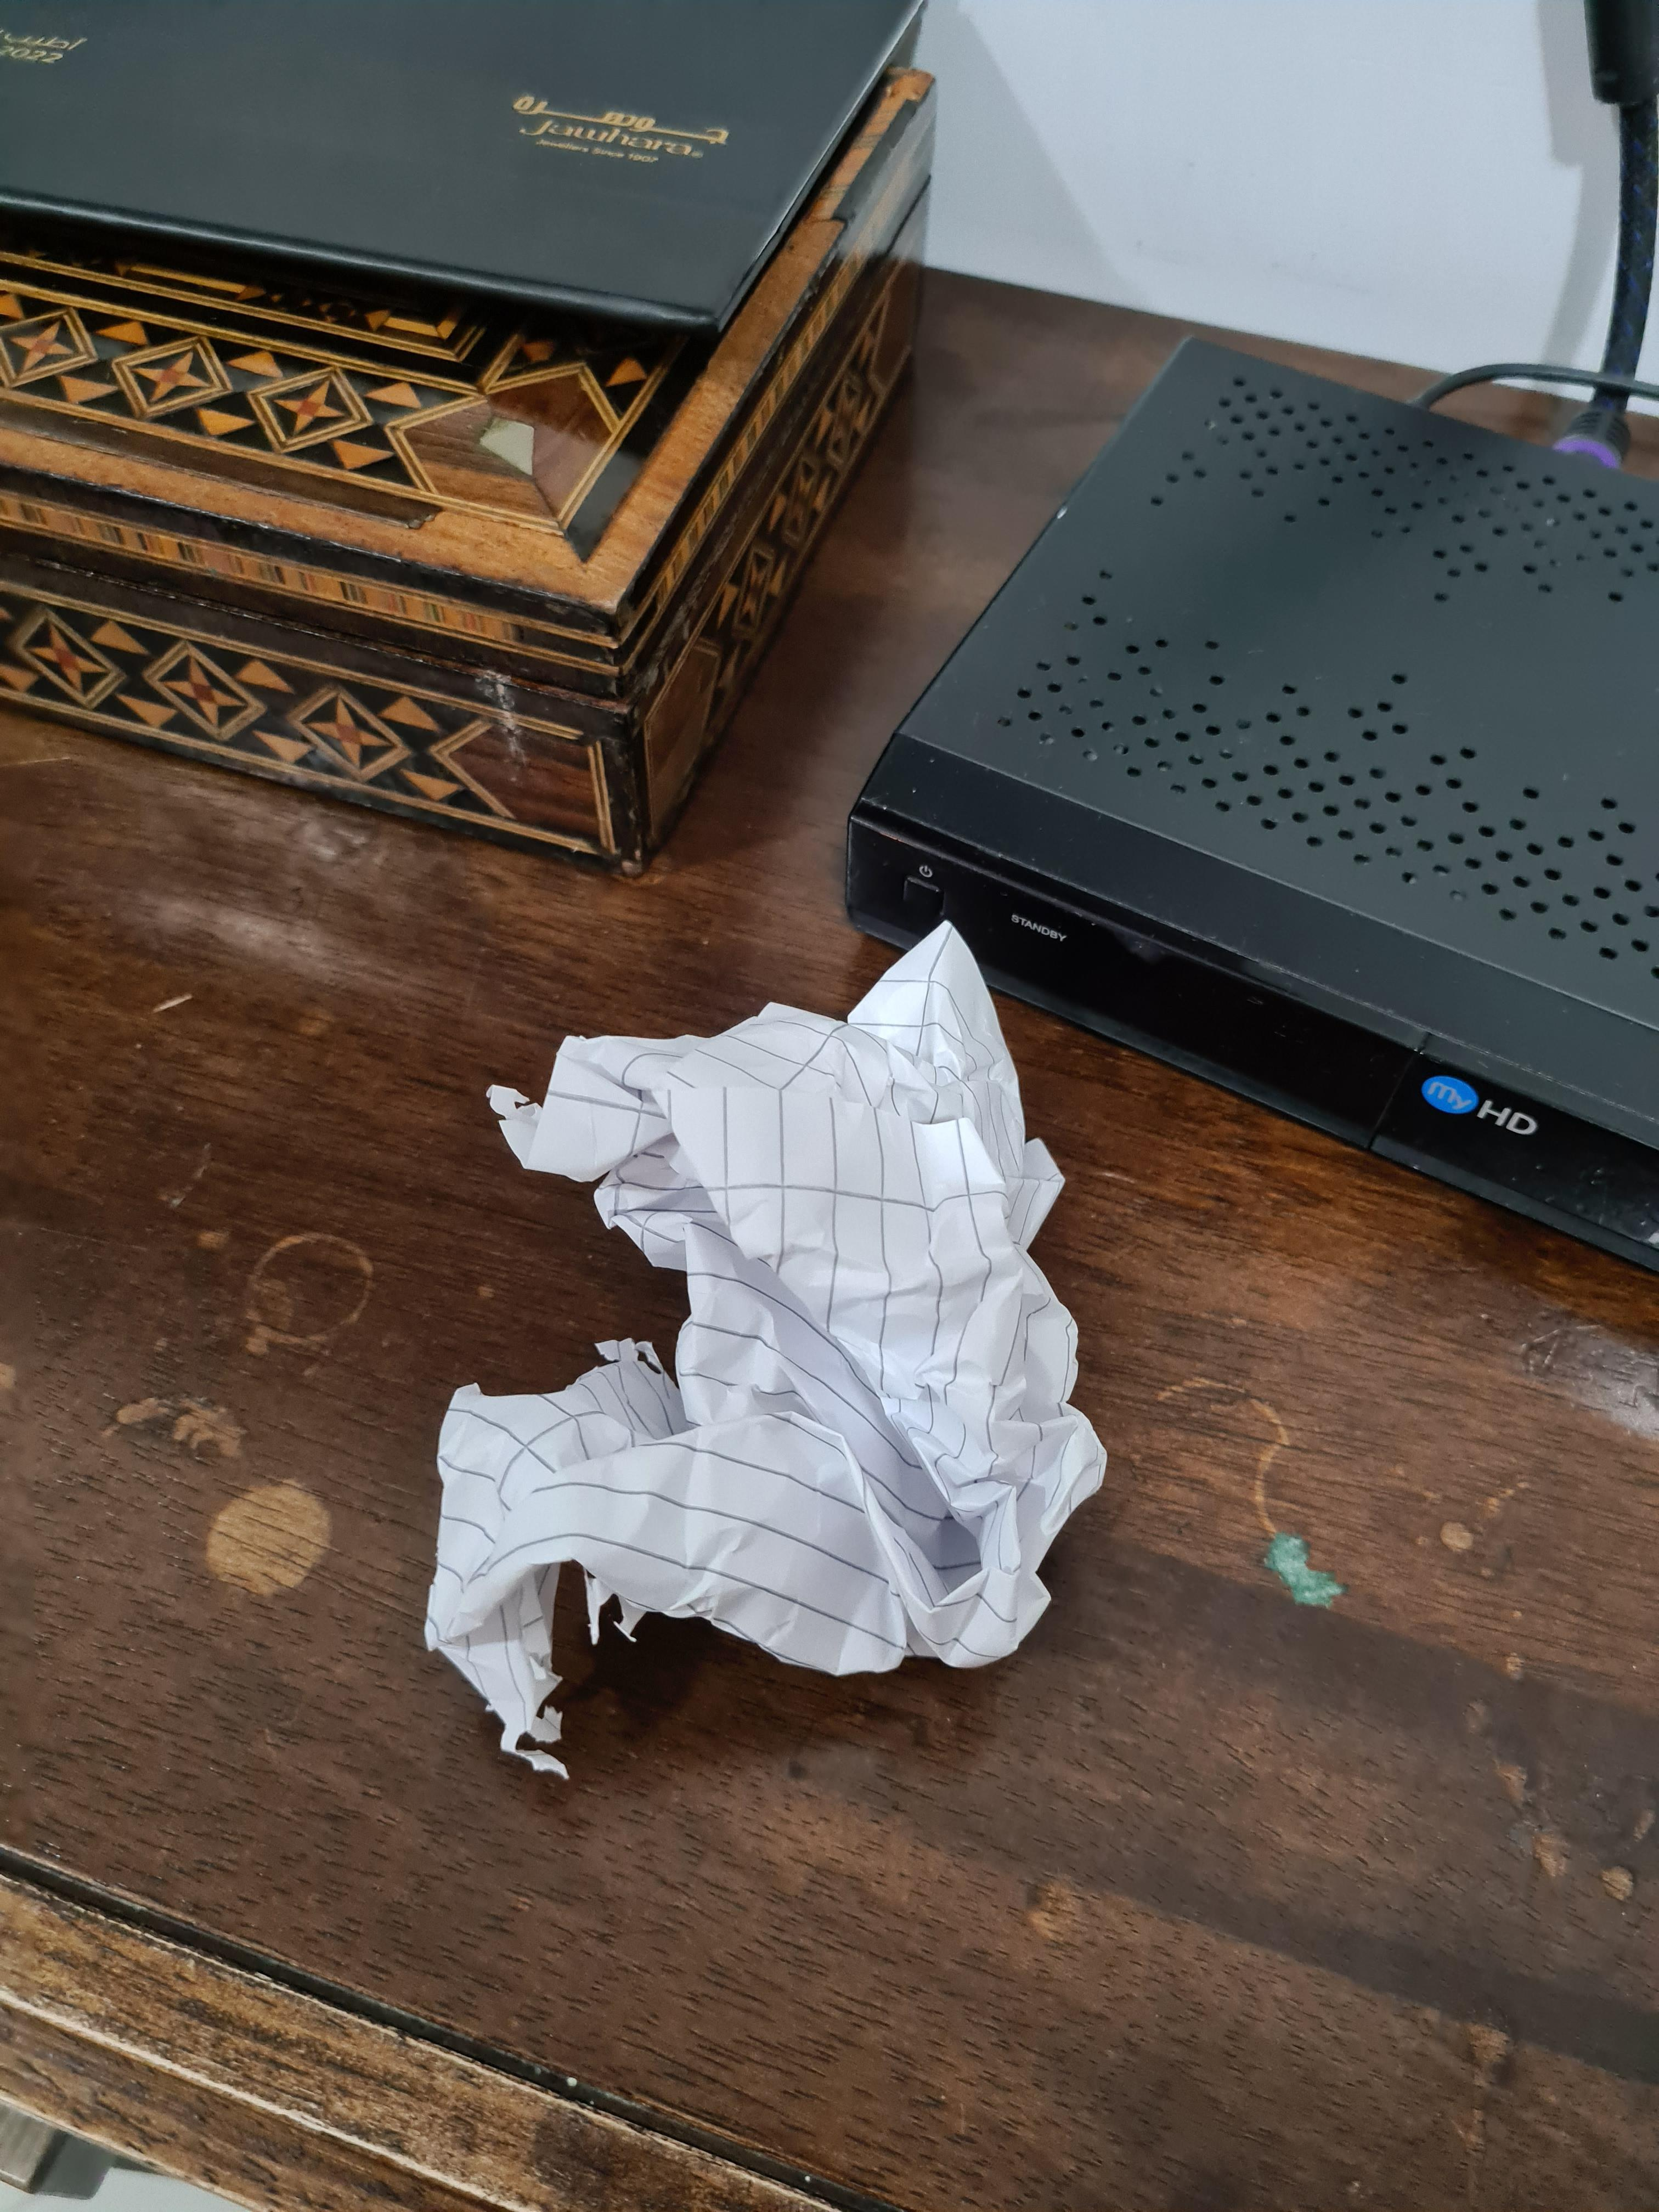Paper: (424, 928, 1110, 1763)
